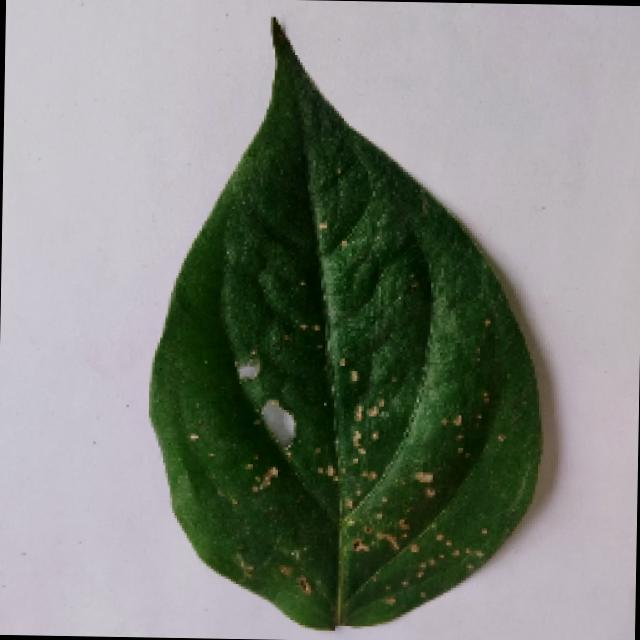pollu-disease: (105, 11, 590, 622)
